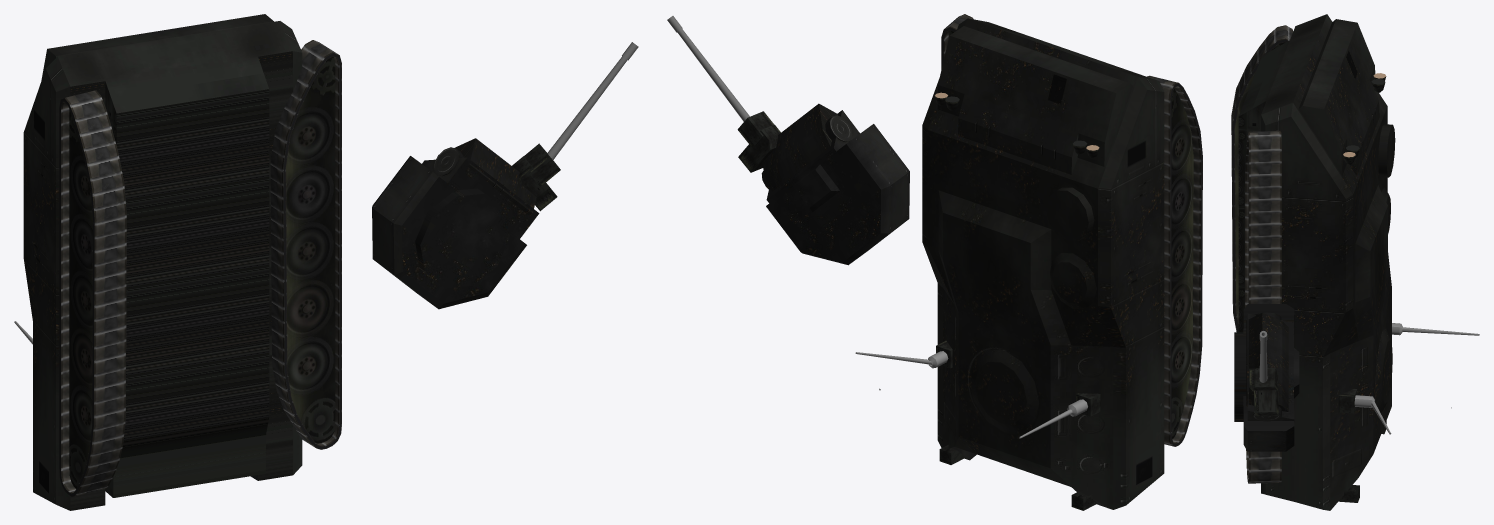
The model's file is AIFV-Destruido.glb.
The picture shows the model from 3 angles, left to right: view 1: azimuth 30°, elevation 25°; view 2: azimuth 150°, elevation 25°; view 3: azimuth 270°, elevation 25°; orthographic projection. The views are drawn at different scales.
Parts seen in each view (by area): view 1: 0q6domc6unhl; view 2: 0q6domc6unhl; view 3: 0q6domc6unhl.
Boxes of the visible parts, box(x1,y1,x2,y2) form: 0q6domc6unhl: box(14, 14, 638, 510); 0q6domc6unhl: box(667, 14, 1202, 510); 0q6domc6unhl: box(1231, 14, 1479, 510).
Bounding box in the file's own units: 6.13 × 4.74 × 2.63.
7 materials, 3 textured.
